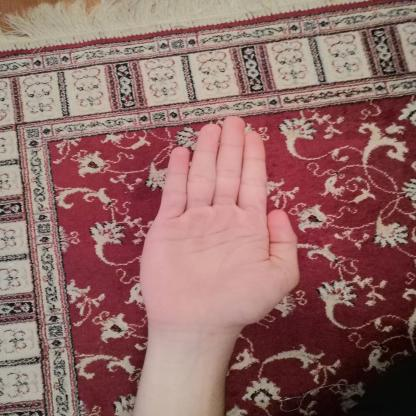SEEN: (124, 104, 312, 337)
